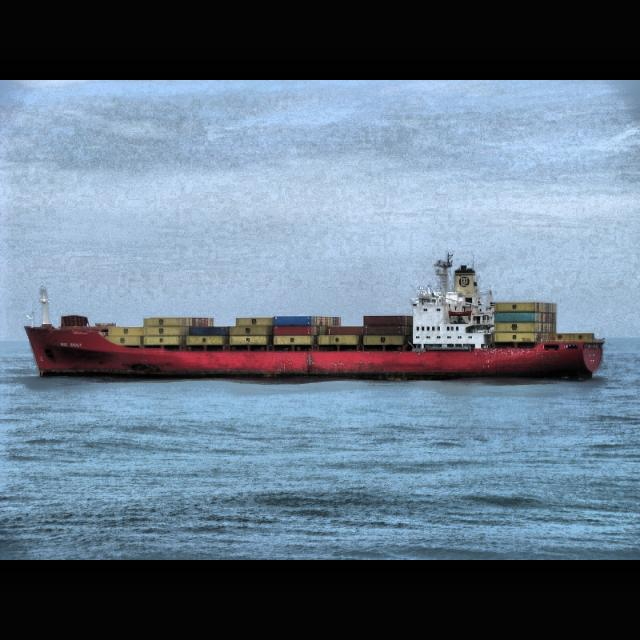container: (24, 257, 606, 379)
